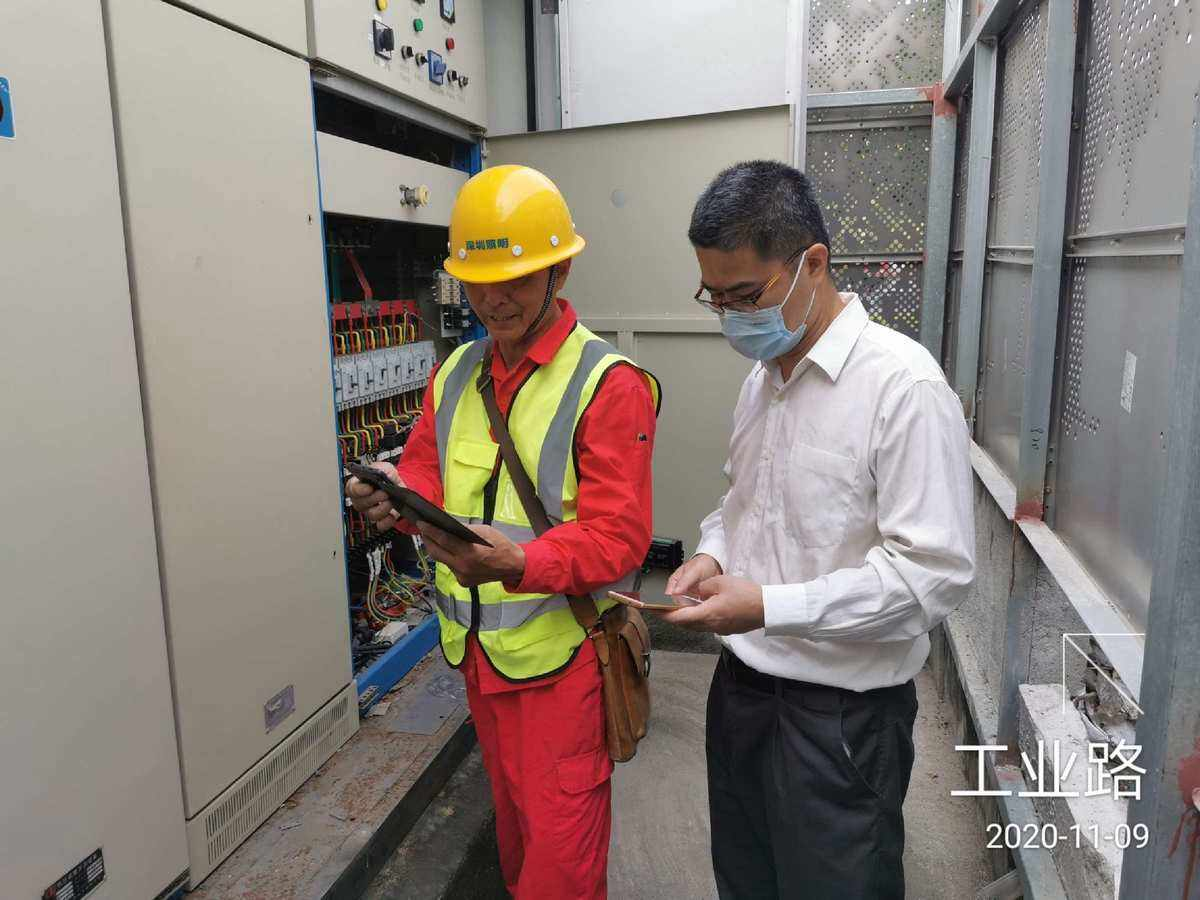head: (686, 154, 837, 365)
ordinary_clothes: (692, 323, 976, 696)
person: (654, 154, 980, 900), (342, 162, 664, 900)
reflective_vest: (429, 324, 663, 686)
safety_helmet: (442, 162, 585, 348)
